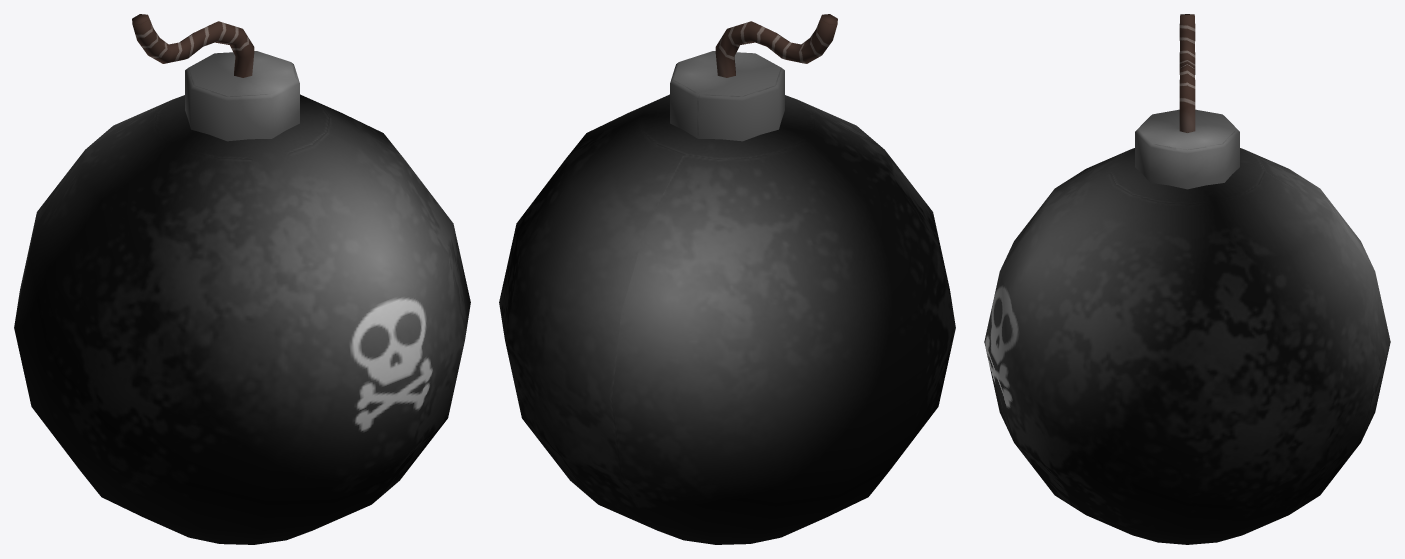
The model's file is Bomba.FBX.
The picture shows the model from 3 angles, left to right: view 1: azimuth 30°, elevation 25°; view 2: azimuth 150°, elevation 25°; view 3: azimuth 270°, elevation 25°; orthographic projection. The views are drawn at different scales.
Parts seen in each view (by area): view 1: BOMBA; view 2: BOMBA; view 3: BOMBA.
Part boxes in pixels (<box>): BOMBA: <box>14,14,470,544</box>; BOMBA: <box>499,14,955,544</box>; BOMBA: <box>984,14,1390,544</box>.
Bounding box in the file's own units: 18.79 × 23.96 × 18.79.
1 material, 1 textured.
